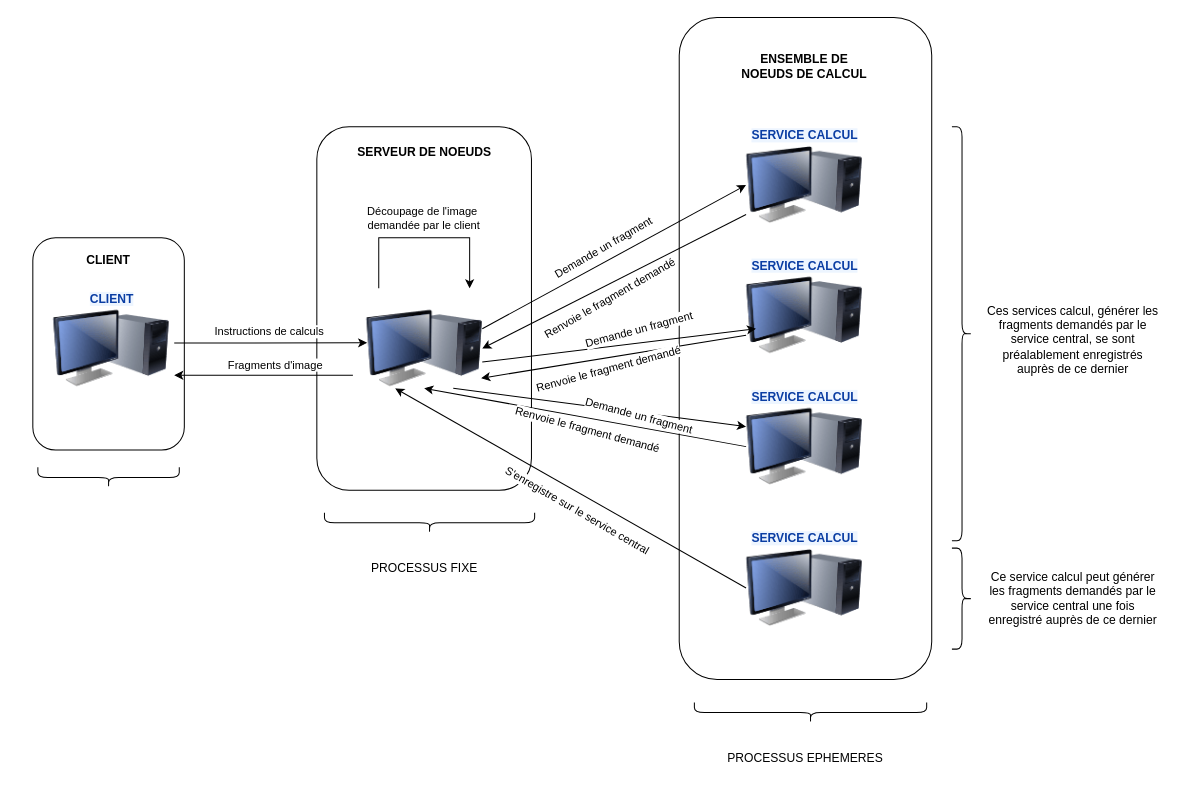
Image size: 1181x791. Some labels were removed from this diagram. Here are the shapes that lost their labels. From the top down, the box of each, then its label:
(366, 308, 482, 388): SERVICE CENTRAL
(37, 466, 179, 488): PROCESSUS EPHEMERE
